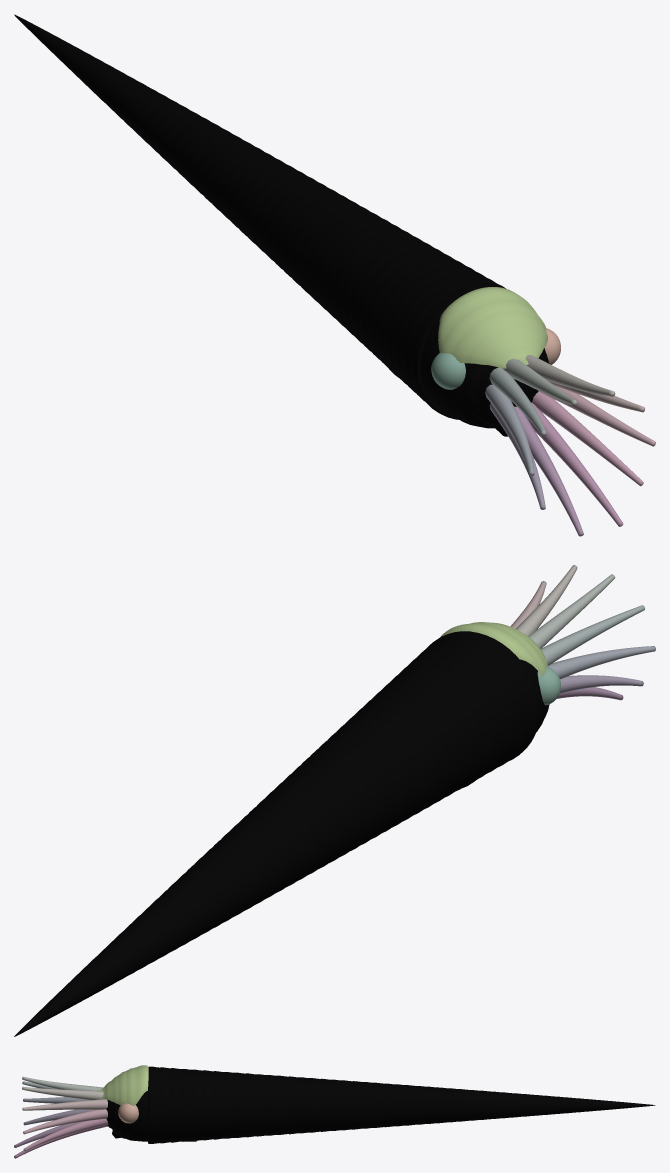
The model's file is cameroceras.glb.
3 renders of one model, top to bottom at view 1: azimuth 30°, elevation 25°; view 2: azimuth 150°, elevation 25°; view 3: azimuth 270°, elevation 25°, orthographic. The views are drawn at different scales.
Visible parts, largest first — view 1: cameroceras; view 2: cameroceras; view 3: cameroceras.
Boxes of the visible parts, x1,y1,x2,y2 form: cameroceras: (14,14,655,536); cameroceras: (14,565,655,1036); cameroceras: (14,1065,655,1158).
Bounding box in the file's own units: 0.7493 × 0.8748 × 6.01.
